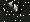person: (15, 3, 25, 15), (8, 4, 15, 15)
